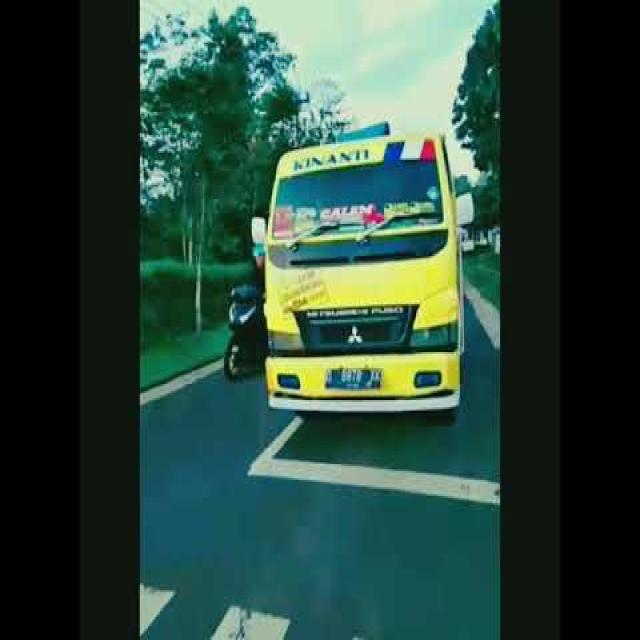truck: (250, 118, 470, 438)
